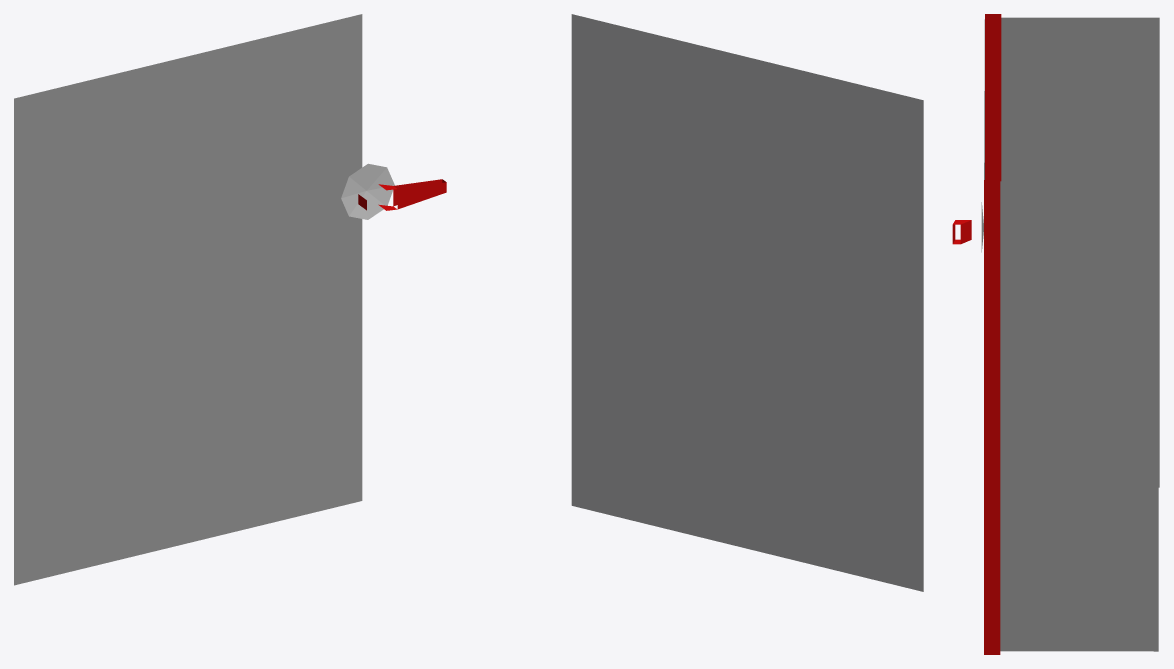
Rendered from tablero_pared.glb.
3 renders of one model, left to right at view 1: azimuth 30°, elevation 25°; view 2: azimuth 150°, elevation 25°; view 3: azimuth 270°, elevation 25°, orthographic. The views are drawn at different scales.
Parts seen in each view (by area): view 1: n5_p0_132_132_132, n4_p0_255_255_255, n3_p0_255_0_0; view 2: n6_p0_199_200_202; view 3: n5_p0_132_132_132, n3_p0_255_0_0.
Part boxes in pixels (x1,y1,x2,y2): n5_p0_132_132_132: (14, 14, 362, 585); n4_p0_255_255_255: (341, 163, 394, 219); n3_p0_255_0_0: (358, 179, 446, 210); n6_p0_199_200_202: (571, 14, 923, 591); n5_p0_132_132_132: (1000, 17, 1159, 651); n3_p0_255_0_0: (952, 14, 1001, 654).
Bounding box in the file's own units: 0.4345 × 0.5793 × 0.2289.
